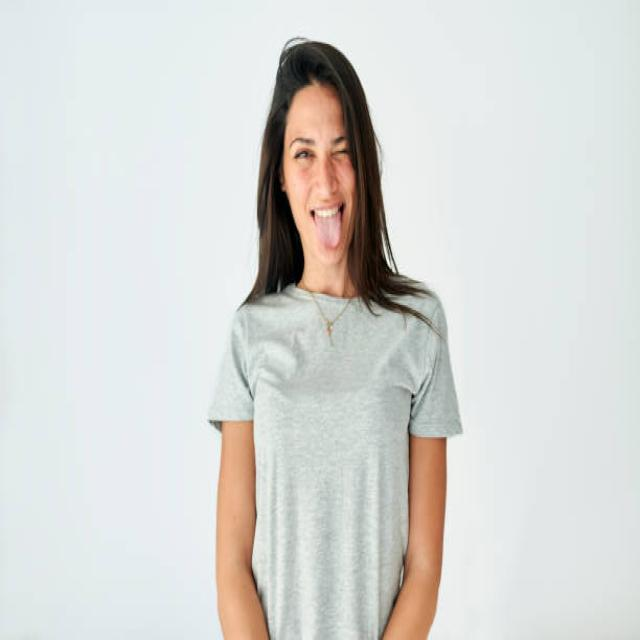tongue: (313, 210, 344, 252)
